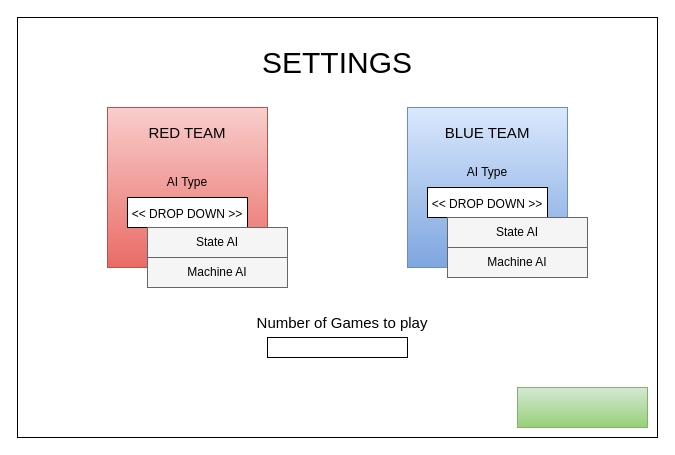
This 675x455 diagram has some shape labels left out. Here are the shapes that lost their labels. From the top down, the box of each, then its label:
(266, 336, 408, 358): << INPUT BOX >>
(516, 386, 648, 428): << START BUTTON >>
